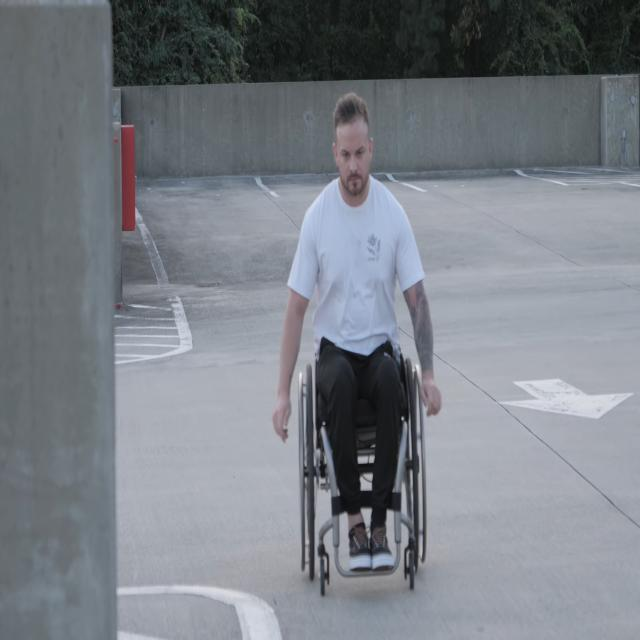wheelchairs: (294, 295, 431, 599)
